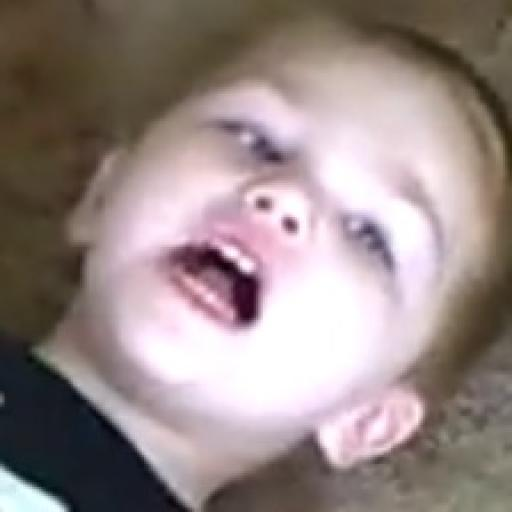Autism: (85, 22, 491, 473)
